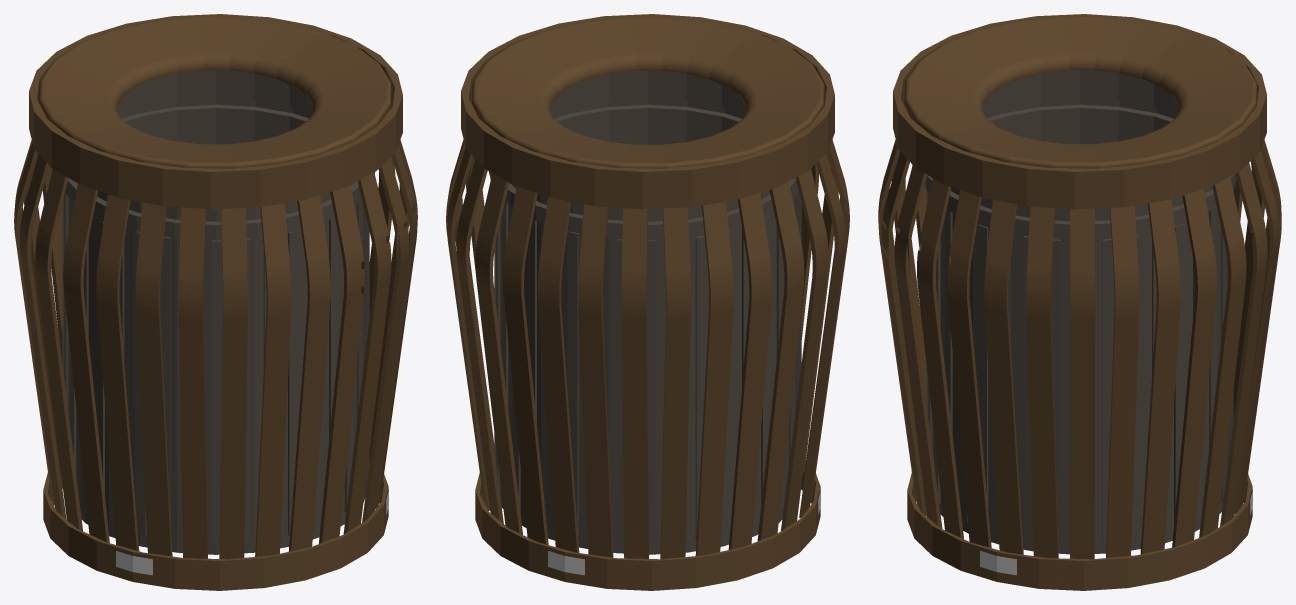
3 views of the same model, side by side, from view 1: azimuth 30°, elevation 25°; view 2: azimuth 150°, elevation 25°; view 3: azimuth 270°, elevation 25° (orthographic).
Parts seen in each view (by area): view 1: mesh76_mesh76-geometry, mesh191_mesh191-geometry, mesh120_mesh120-geometry, mesh103_mesh103-geometry, mesh170_mesh170-geometry, mesh167_mesh167-geometry, mesh188_mesh188-geometry, mesh173_mesh173-geometry, mesh185_mesh185-geometry, mesh176_mesh176-geometry, mesh182_mesh182-geometry, mesh179_mesh179-geometry (+23 smaller); view 2: mesh76_mesh76-geometry, mesh191_mesh191-geometry, mesh120_mesh120-geometry, mesh103_mesh103-geometry, mesh131_mesh131-geometry, mesh111_mesh111-geometry, mesh149_mesh149-geometry, mesh114_mesh114-geometry, mesh108_mesh108-geometry, mesh146_mesh146-geometry, mesh143_mesh143-geometry, mesh97_mesh97-geometry (+21 smaller); view 3: mesh76_mesh76-geometry, mesh191_mesh191-geometry, mesh120_mesh120-geometry, mesh103_mesh103-geometry, mesh161_mesh161-geometry, mesh128_mesh128-geometry, mesh158_mesh158-geometry, mesh164_mesh164-geometry, mesh140_mesh140-geometry, mesh152_mesh152-geometry, mesh137_mesh137-geometry, mesh155_mesh155-geometry (+20 smaller).
Part boxes in pixels (x1=…): mesh76_mesh76-geometry: x1=65, y1=70, x2=374, y2=554; mesh191_mesh191-geometry: x1=38, y1=16, x2=391, y2=168; mesh120_mesh120-geometry: x1=29, y1=14, x2=402, y2=209; mesh103_mesh103-geometry: x1=43, y1=472, x2=388, y2=590; mesh170_mesh170-geometry: x1=178, y1=207, x2=207, y2=558; mesh167_mesh167-geometry: x1=219, y1=208, x2=247, y2=559; mesh188_mesh188-geometry: x1=255, y1=203, x2=291, y2=556; mesh173_mesh173-geometry: x1=135, y1=202, x2=172, y2=556; mesh185_mesh185-geometry: x1=288, y1=195, x2=330, y2=551; mesh176_mesh176-geometry: x1=96, y1=194, x2=139, y2=551; mesh182_mesh182-geometry: x1=319, y1=185, x2=364, y2=543; mesh179_mesh179-geometry: x1=63, y1=183, x2=109, y2=543; mesh76_mesh76-geometry: x1=489, y1=70, x2=798, y2=554; mesh191_mesh191-geometry: x1=472, y1=17, x2=824, y2=168; mesh120_mesh120-geometry: x1=461, y1=14, x2=834, y2=209; mesh103_mesh103-geometry: x1=475, y1=461, x2=820, y2=590; mesh131_mesh131-geometry: x1=660, y1=207, x2=690, y2=559; mesh111_mesh111-geometry: x1=621, y1=208, x2=648, y2=558; mesh149_mesh149-geometry: x1=578, y1=204, x2=613, y2=557; mesh114_mesh114-geometry: x1=695, y1=201, x2=733, y2=555; mesh108_mesh108-geometry: x1=537, y1=197, x2=579, y2=552; mesh146_mesh146-geometry: x1=728, y1=193, x2=771, y2=549; mesh143_mesh143-geometry: x1=503, y1=186, x2=548, y2=544; mesh97_mesh97-geometry: x1=757, y1=181, x2=804, y2=541; mesh76_mesh76-geometry: x1=924, y1=70, x2=1236, y2=554; mesh191_mesh191-geometry: x1=904, y1=16, x2=1256, y2=168; mesh120_mesh120-geometry: x1=893, y1=14, x2=1266, y2=209; mesh103_mesh103-geometry: x1=907, y1=472, x2=1252, y2=590; mesh161_mesh161-geometry: x1=1026, y1=206, x2=1058, y2=558; mesh128_mesh128-geometry: x1=1106, y1=205, x2=1139, y2=557; mesh158_mesh158-geometry: x1=1070, y1=208, x2=1095, y2=559; mesh164_mesh164-geometry: x1=984, y1=200, x2=1023, y2=554; mesh140_mesh140-geometry: x1=1140, y1=199, x2=1180, y2=554; mesh152_mesh152-geometry: x1=947, y1=190, x2=991, y2=547; mesh137_mesh137-geometry: x1=1172, y1=189, x2=1216, y2=547; mesh155_mesh155-geometry: x1=917, y1=178, x2=963, y2=538.
Bounding box in the file's own units: 0.5445 × 0.6378 × 0.5447.
